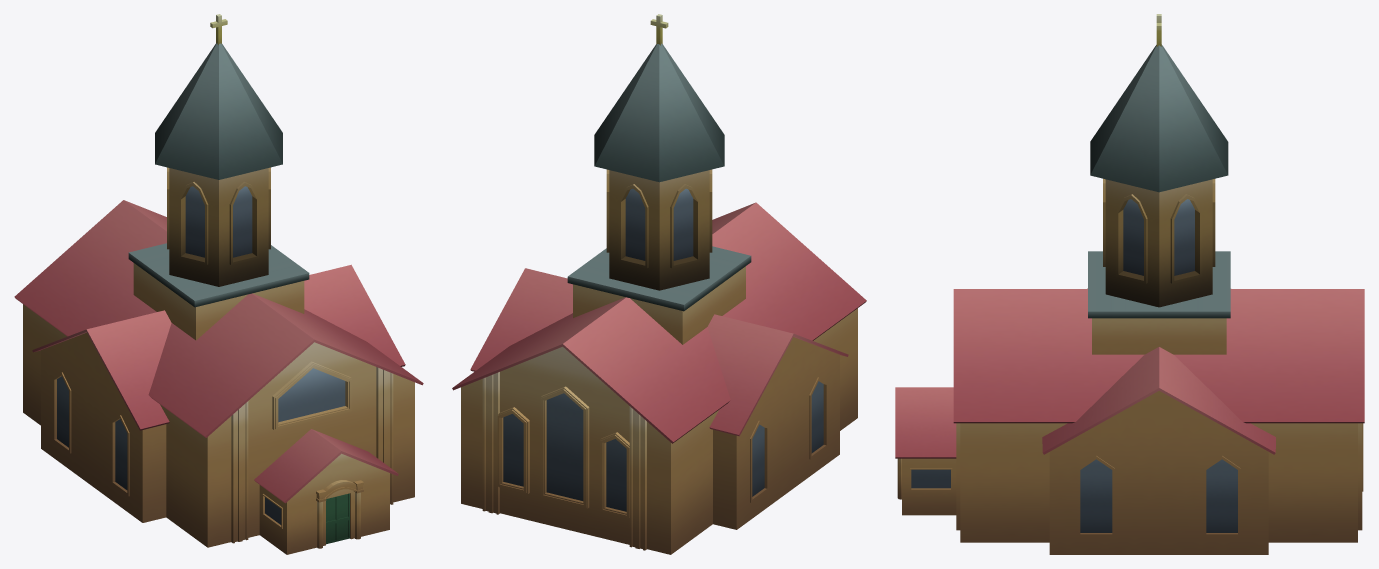
Rendered from Church_FBX.fbx.
The picture shows the model from 3 angles, left to right: view 1: azimuth 30°, elevation 25°; view 2: azimuth 150°, elevation 25°; view 3: azimuth 270°, elevation 25°; orthographic projection. The views are drawn at different scales.
Parts seen in each view (by area): view 1: pCube62; view 2: pCube62; view 3: pCube62.
Boxes of the visible parts, x1,y1,x2,y2 form: pCube62: [14, 14, 423, 554]; pCube62: [452, 14, 866, 554]; pCube62: [895, 14, 1364, 554].
Size of the model in its own units: 1233 by 1955 by 1757.
